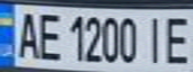0: (118, 13, 142, 64), (100, 12, 121, 64)
1: (63, 11, 84, 62)
2: (81, 11, 103, 63)
A: (12, 8, 42, 60)
E: (160, 11, 193, 65), (33, 8, 63, 61)
I: (142, 12, 169, 64)
